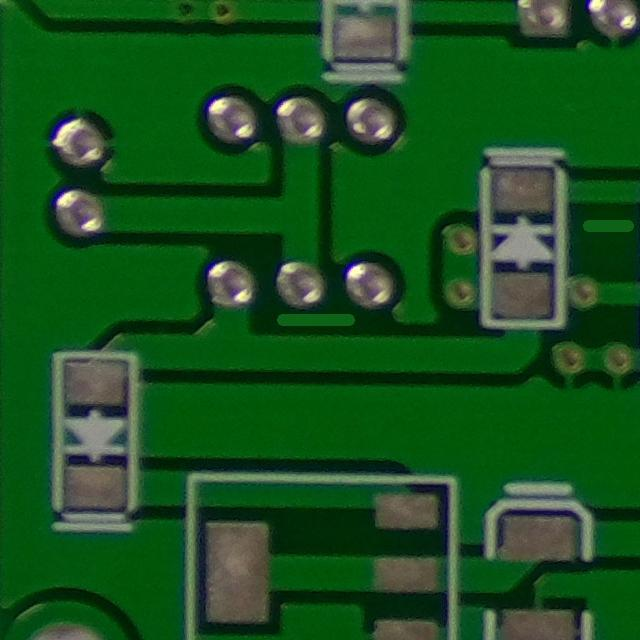spurious_copper: (268, 294, 373, 346)
